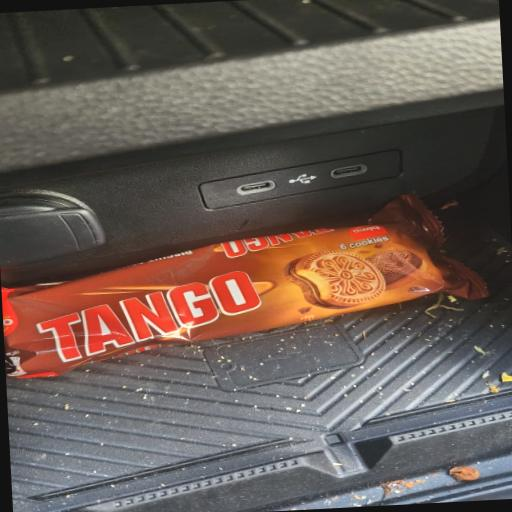tango: (0, 195, 512, 422)
